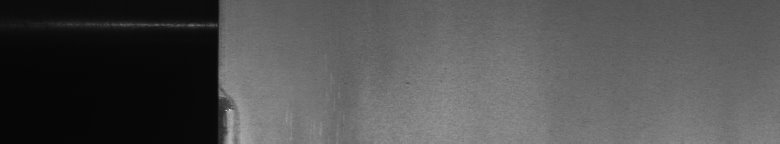hb: (228, 92, 244, 136)
